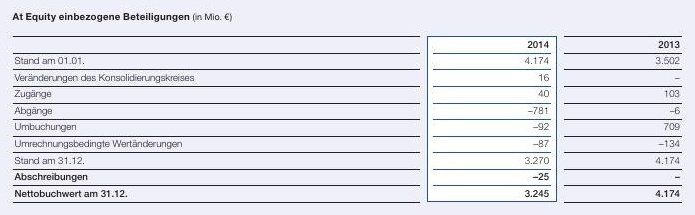table: (0, 0, 695, 215)
